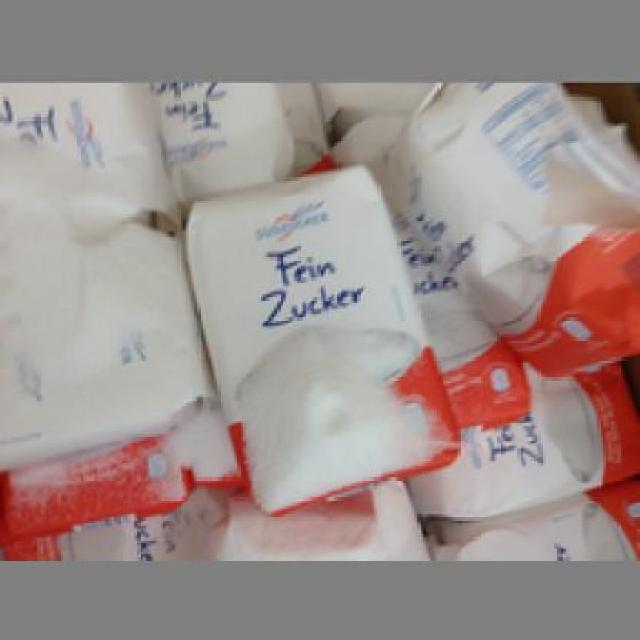Sugar: (180, 162, 457, 515), (383, 80, 637, 369)
